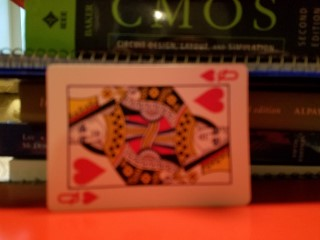QueenOfHearts: (44, 62, 254, 213)
